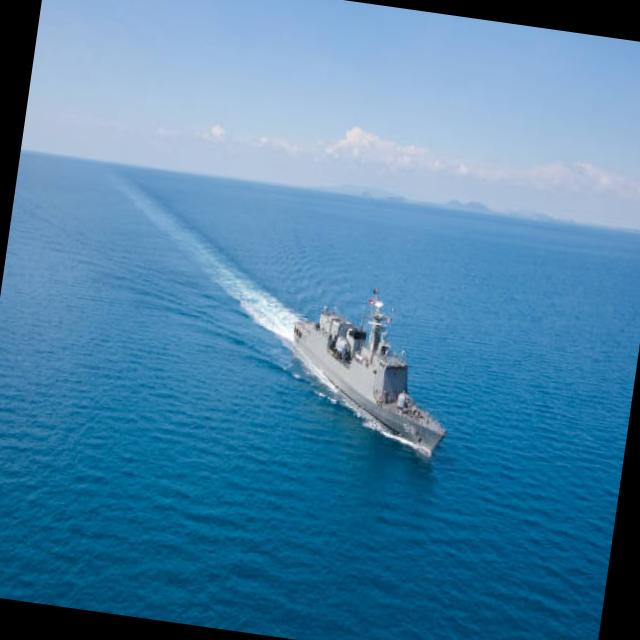Military: (291, 292, 444, 460)
